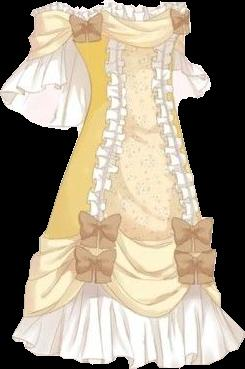Bodice: (42, 1, 213, 241)
Hemline: (21, 272, 222, 319), (10, 329, 244, 368)
Neckline: (60, 0, 190, 11)
Skirt: (12, 223, 244, 368)
Sleeve: (0, 1, 89, 134), (174, 38, 210, 108)
Sleeveline: (25, 36, 71, 60), (59, 1, 71, 40)
Waistline: (40, 221, 213, 245), (0, 73, 88, 99)
